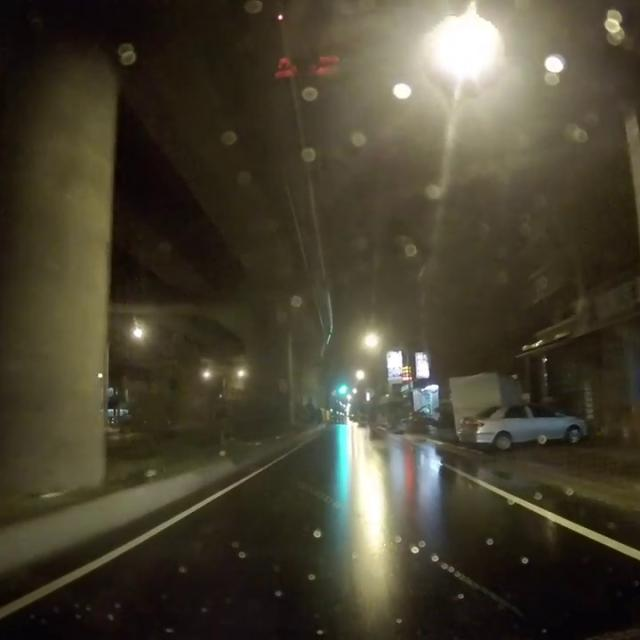Car: (458, 409, 590, 446)
